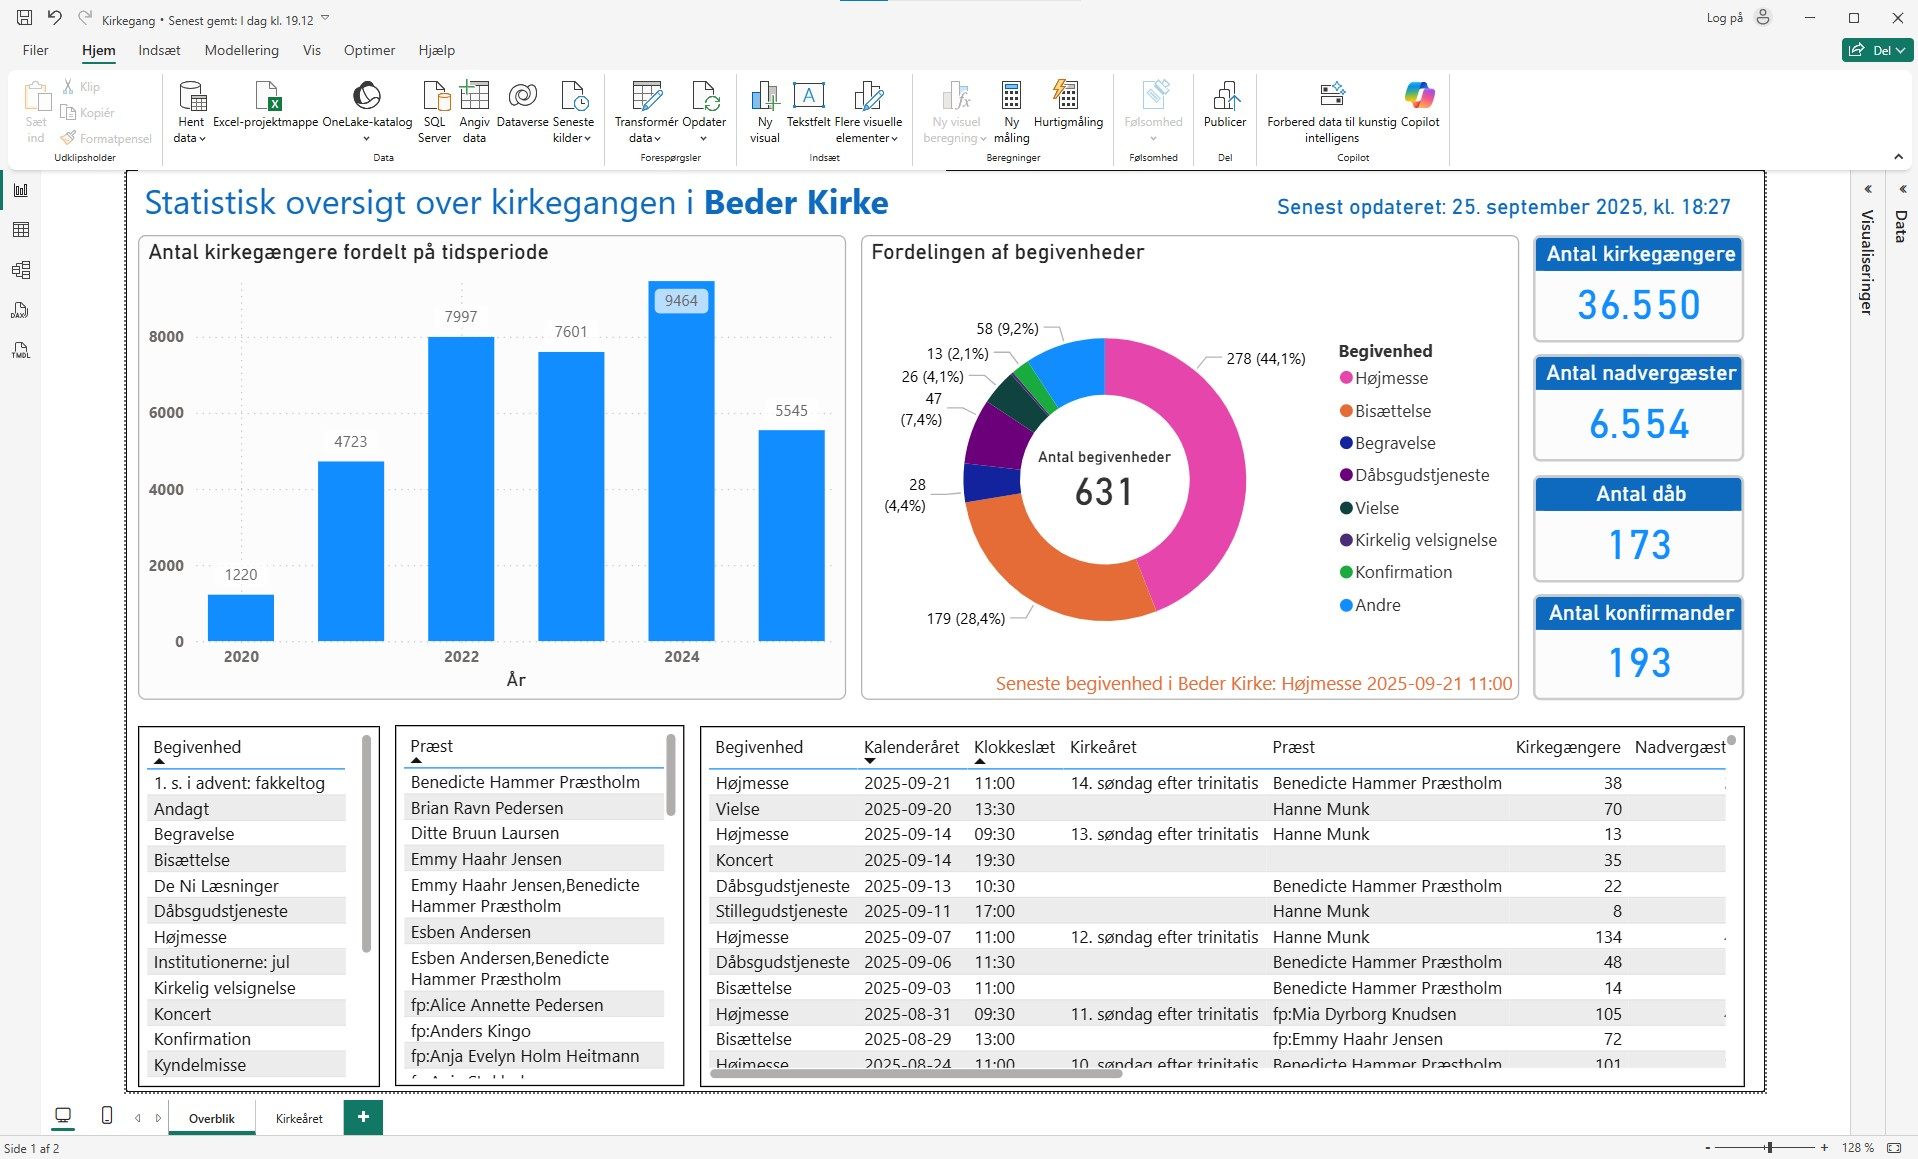

This screenshot's page, from the dashboard's own definition file:
{"tool":"powerbi","page":{"name":"Overblik","canvas":[1280,720],"ordinal":0},"visuals":[{"type":"tableEx","fields":{"Values":["kirkegang.begivenhed","kirkegang.kalenderaaret","kirkegang.klokkeslaet","kirkegang.kirkeaaret","kirkegang.praest","kirkegang.kirkegaengere","kirkegang.Nadvergæster","kirkegang.Dåb","kirkegang.bemaerkninger","kirkegang.indeks","kirkegang.indberetningstidspunkt"]},"box":[448.2,434.2,816.1,281.9],"z":0},{"type":"tableEx","fields":{"Values":["kirkegang.begivenhed"]},"box":[9.6,433.9,189.1,282.2],"z":1000},{"type":"tableEx","fields":{"Values":["præster.praest"]},"box":[210.1,434.2,226.5,281.9],"z":2000},{"type":"card","title":"Antal kirkegængere","fields":{"Values":["kirkegang.Antal kirkegængere"]},"box":[1098.7,50.8,165.6,83.6],"z":3000},{"type":"lineClusteredColumnComboChart","title":"Antal kirkegængere fordelt på tidsperioder","fields":{"Category":["kirkegang.kalenderaaret.Variation.Datohierarki.År","kirkegang.kalenderaaret.Variation.Datohierarki.Kvartal","kirkegang.kalenderaaret.Variation.Datohierarki.Måned","kirkegang.kalenderaaret.Variation.Datohierarki.Dag"],"Y":["Sum(kirkegang.kirkegaengere)"]},"box":[9.4,50.8,552.9,363.1],"z":4000},{"type":"textbox","box":[7.8,0,632.5,50.8],"z":5000},{"type":"card","title":"Antal dåb","fields":{"Values":["Sum(kirkegang.Dåb)"]},"box":[1098.8,238.3,165.5,83.6],"z":6000},{"type":"card","title":"Antal nadvergæster","fields":{"Values":["Sum(kirkegang.Nadvergæster)"]},"box":[1098.8,144,165.5,83.6],"z":7000},{"type":"card","title":"Antal konfirmander","fields":{"Values":["Sum(kirkegang.konfirmander)"]},"box":[1098.8,331,165.5,82.7],"z":8000},{"type":"donutChart","title":"Fordelingen af  begivenheder ","fields":{"Category":["kirkegang.BegivenhedKategori"],"Y":["kirkegang.AntalBegivenheder"]},"box":[574,50.8,513.8,363.1],"z":9000},{"type":"card","title":"Antal begivenheder","fields":{"Values":["kirkegang.AntalBegivenheder"]},"box":[704.4,217.1,119.5,50.8],"z":10000},{"type":"card","fields":{"Values":["kirkegang.DagsDatoMedTid"]},"box":[1009.1,6.8,254.8,36.3],"z":11000},{"type":"card","fields":{"Values":["kirkegang.SenesteBegivenhed"]},"box":[574.1,380,513.6,42.6],"z":12000}]}

Visuals, with their boxes on the page's 1280x720 design canvas (x1, y1, x2, y2). These are canvas units, not pixel positions in the 1918x1159 screenshot, which may show the page scaled, cropped or inside an application window:
tableEx - kirkegang.begivenhed x kirkegang.kalenderaaret: <region>448, 434, 1264, 716</region>
tableEx - kirkegang.begivenhed: <region>10, 434, 199, 716</region>
tableEx - præster.praest: <region>210, 434, 437, 716</region>
"Antal kirkegængere" card: <region>1099, 51, 1264, 134</region>
"Antal kirkegængere fordelt på tidsperioder" lineClusteredColumnComboChart: <region>9, 51, 562, 414</region>
textbox: <region>8, 0, 640, 51</region>
"Antal dåb" card: <region>1099, 238, 1264, 322</region>
"Antal nadvergæster" card: <region>1099, 144, 1264, 228</region>
"Antal konfirmander" card: <region>1099, 331, 1264, 414</region>
"Fordelingen af  begivenheder " donutChart: <region>574, 51, 1088, 414</region>
"Antal begivenheder" card: <region>704, 217, 824, 268</region>
card - kirkegang.DagsDatoMedTid: <region>1009, 7, 1264, 43</region>
card - kirkegang.SenesteBegivenhed: <region>574, 380, 1088, 423</region>
